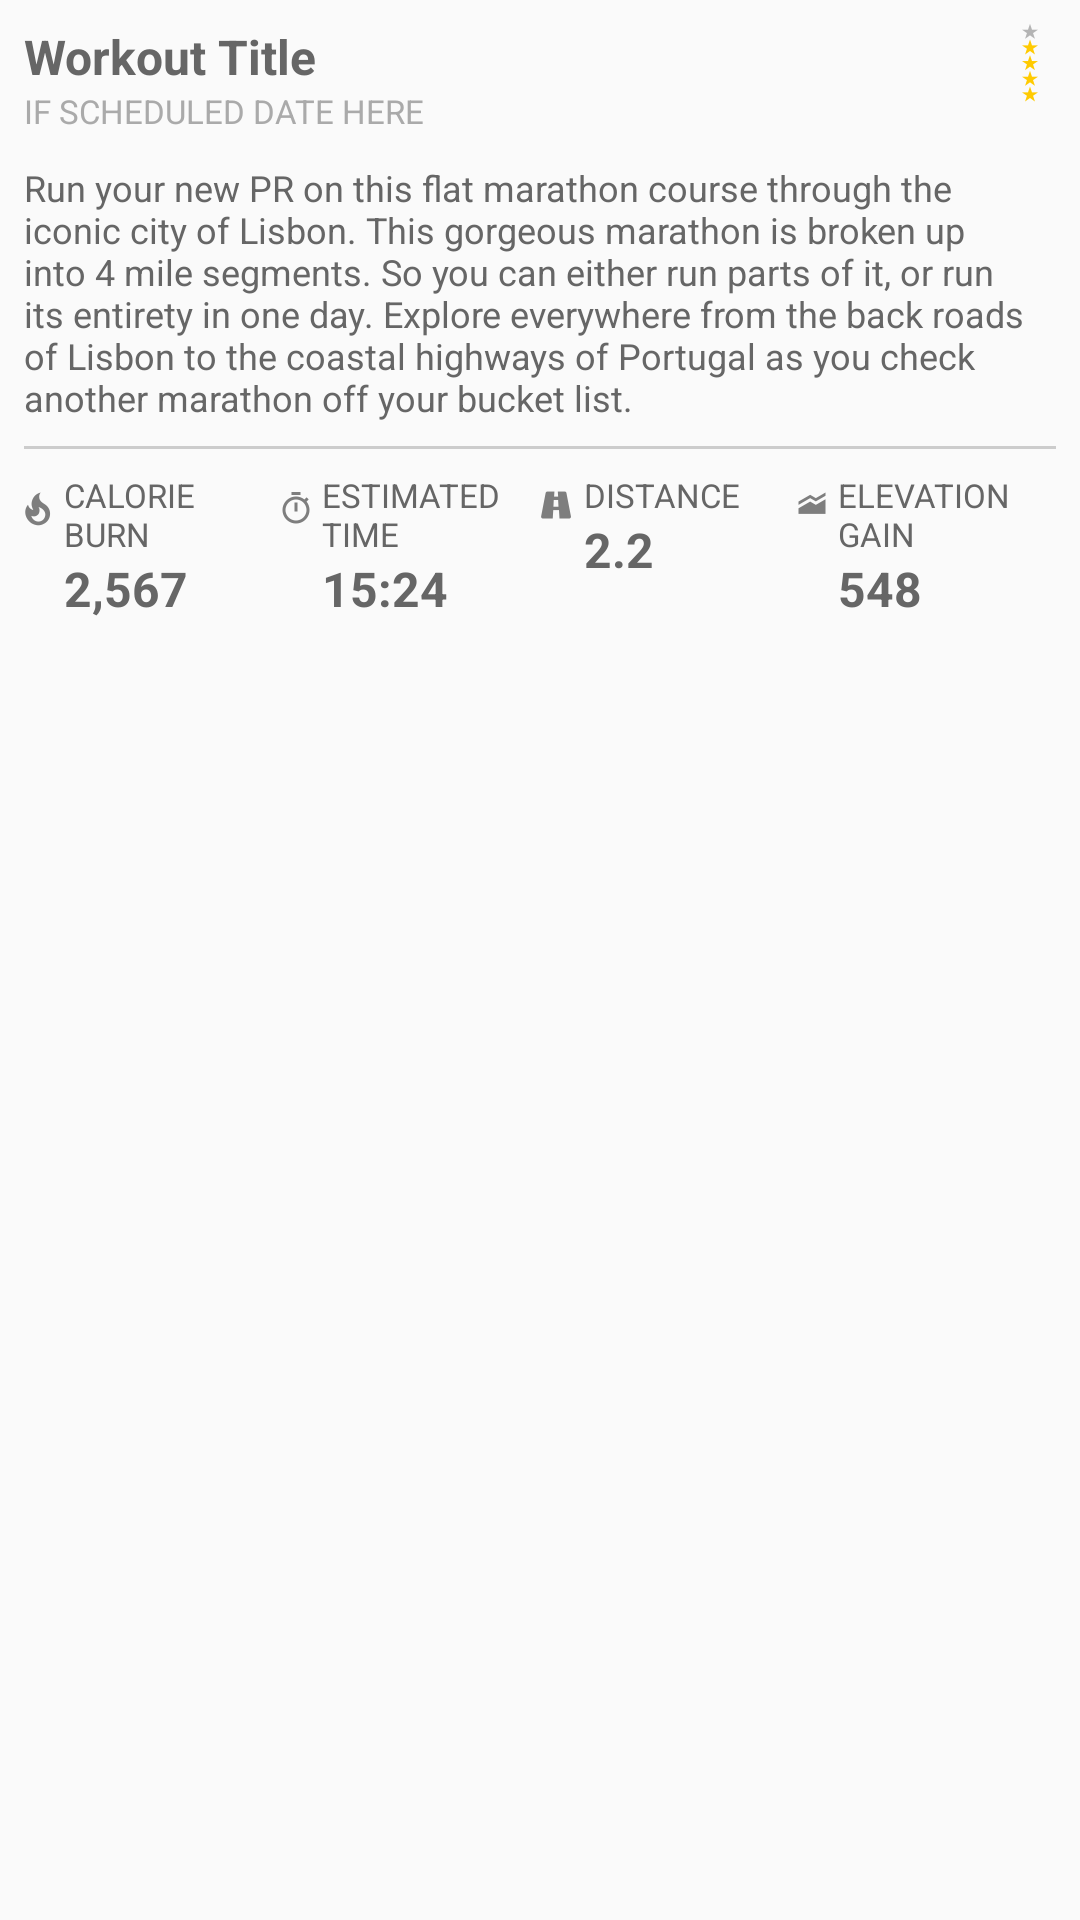

Named icons in this screenshot (1080 × 1920) and their bounding boxes, bbox=(x1, y1, x2, y2):
stopwatch: bbox=(282, 492, 310, 524)
